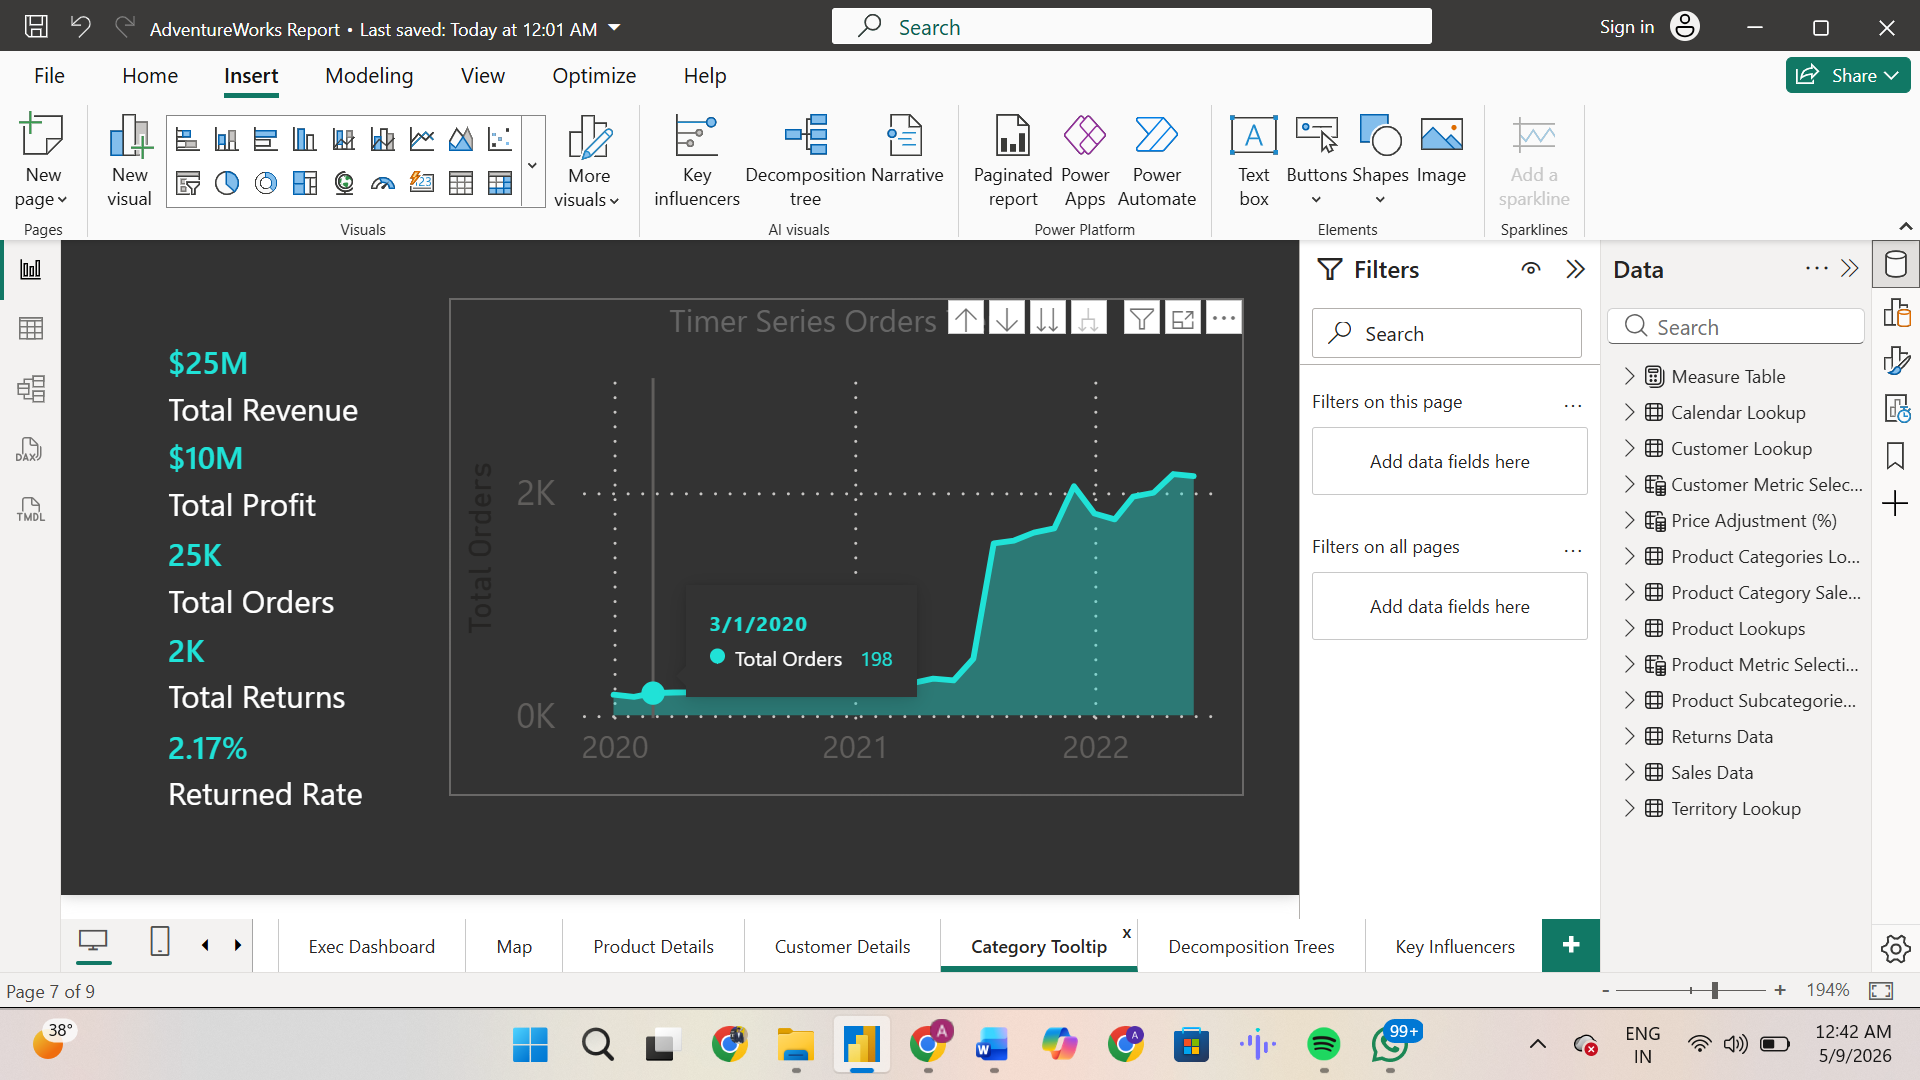

This screenshot's page, from the dashboard's own definition file:
{"tool":"powerbi","page":{"name":"Category Tooltip","canvas":[425,225],"ordinal":6},"visuals":[{"type":"cardVisual","fields":{"Data":["Measure Table.Total Revenue","Measure Table.Total Profit","Measure Table.Total Orders","Measure Table.Total Returns","Measure Table.Returned Rate"]},"box":[7.7,20,125.8,195.5],"z":0},{"type":"areaChart","title":"Timer Series Orders Trend","fields":{"Y":["Measure Table.Total Orders"],"Category":["Calendar Lookup.Date Hierarchy.Start of Year","Calendar Lookup.Date Hierarchy.Start of Month","Calendar Lookup.Date Hierarchy.Start of Week","Calendar Lookup.Date Hierarchy.Date"]},"box":[133.6,20,272.1,170.7],"z":1000}]}

Visuals, with their boxes on the page's 425x225 design canvas (x1, y1, x2, y2). These are canvas units, not pixel positions in the 1920x1080 screenshot, which may show the page scaled, cropped or inside an application window:
cardVisual - Measure Table.Total Revenue x Measure Table.Total Profit: <box>8,20,134,216</box>
"Timer Series Orders Trend" areaChart: <box>134,20,406,191</box>
